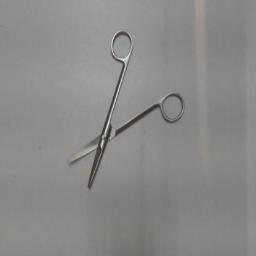Curved Mayo Scissors: (66, 22, 190, 194)
